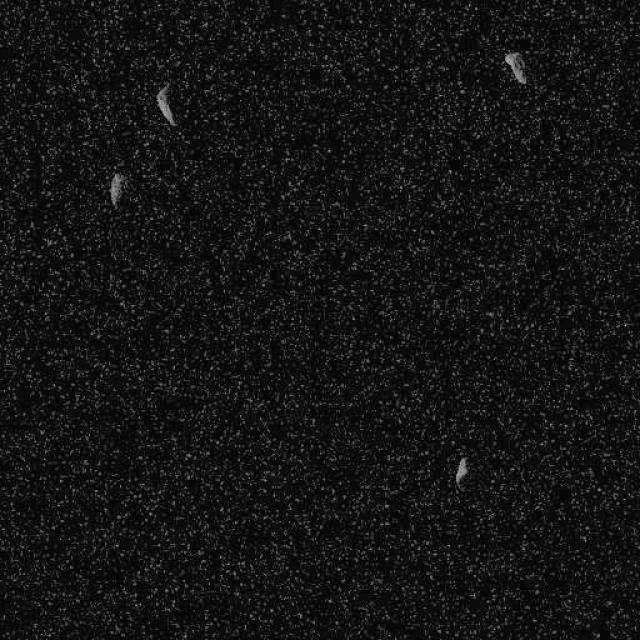D2: (155, 82, 176, 126), (502, 50, 528, 85), (107, 170, 125, 209), (454, 455, 468, 487)
